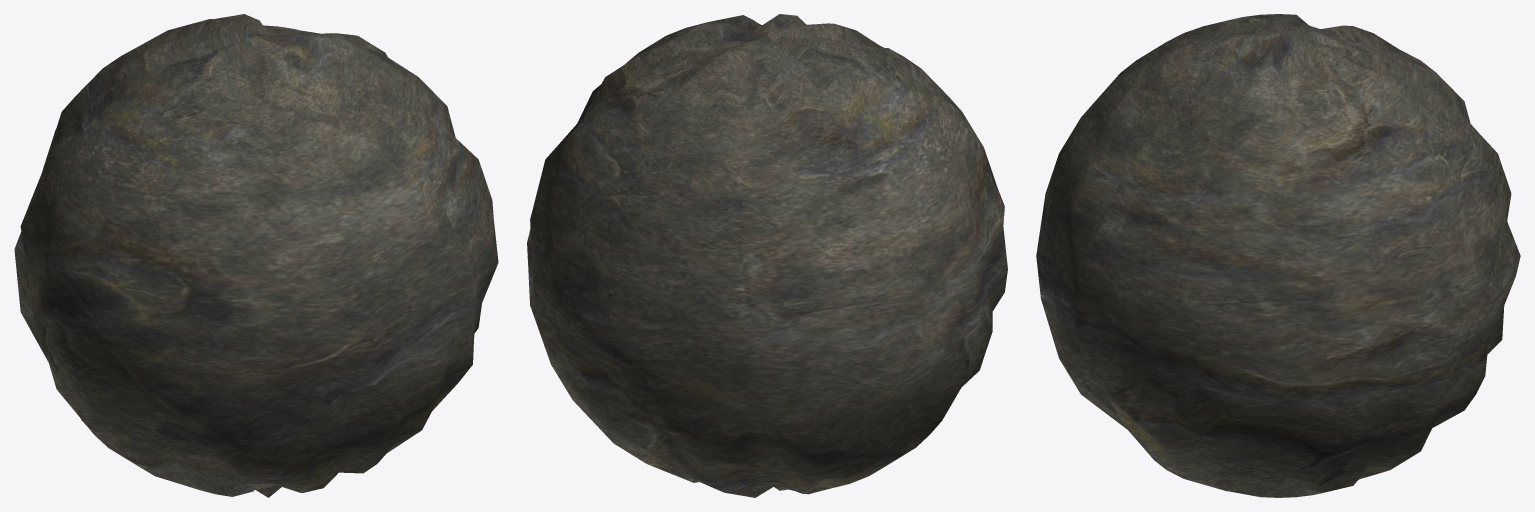
The model's file is Boulder.fbx.
3 renders of one model, left to right at view 1: azimuth 30°, elevation 25°; view 2: azimuth 150°, elevation 25°; view 3: azimuth 270°, elevation 25°, orthographic.
Visible parts, largest first — view 1: Sphere; view 2: Sphere; view 3: Sphere.
Part boxes in pixels (bbox=[...]): Sphere: bbox=[14, 14, 498, 497]; Sphere: bbox=[527, 14, 1007, 497]; Sphere: bbox=[1036, 14, 1520, 497].
Bounding box in the file's own units: 210 × 208 × 210.
